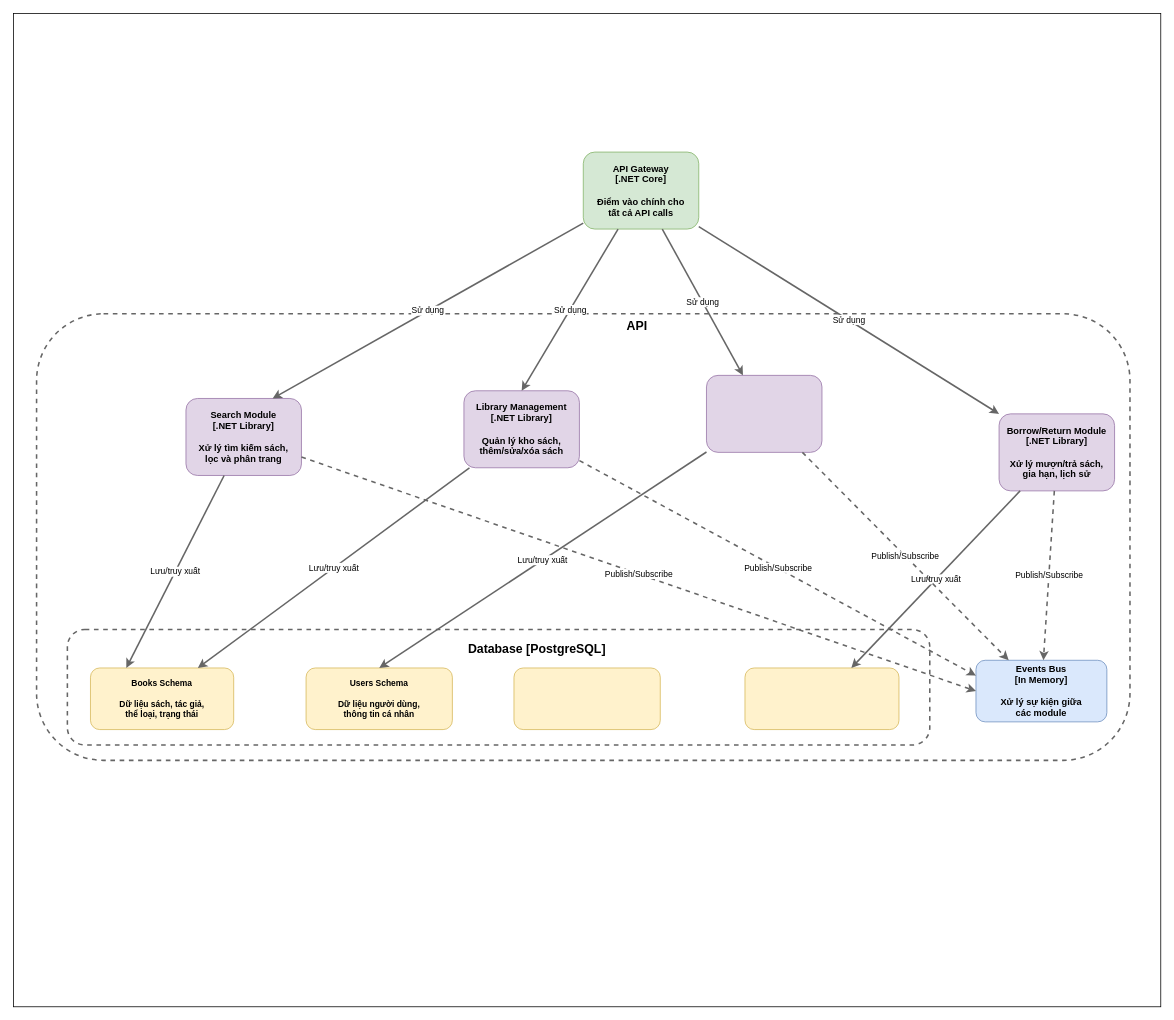
This 1174x1020 diagram has some shape labels left out. Each missing label, with the centre of its shape:
"Account Management [.NET Library] Quản lý tài khoản, đăng nhập, phân quyền" belongs at pixel 764 413.
"Borrowings Schema Lịch sử mượn/trả, gia hạn, phí trễ hạn" belongs at pixel 821 698.
"Payments Schema Lịch sử thanh toán, phí thành viên" belongs at pixel 586 698.
